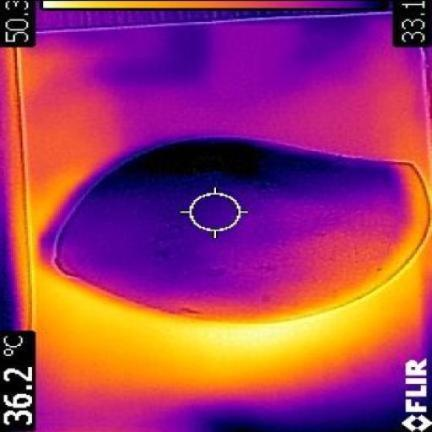mango: (54, 137, 426, 320)
